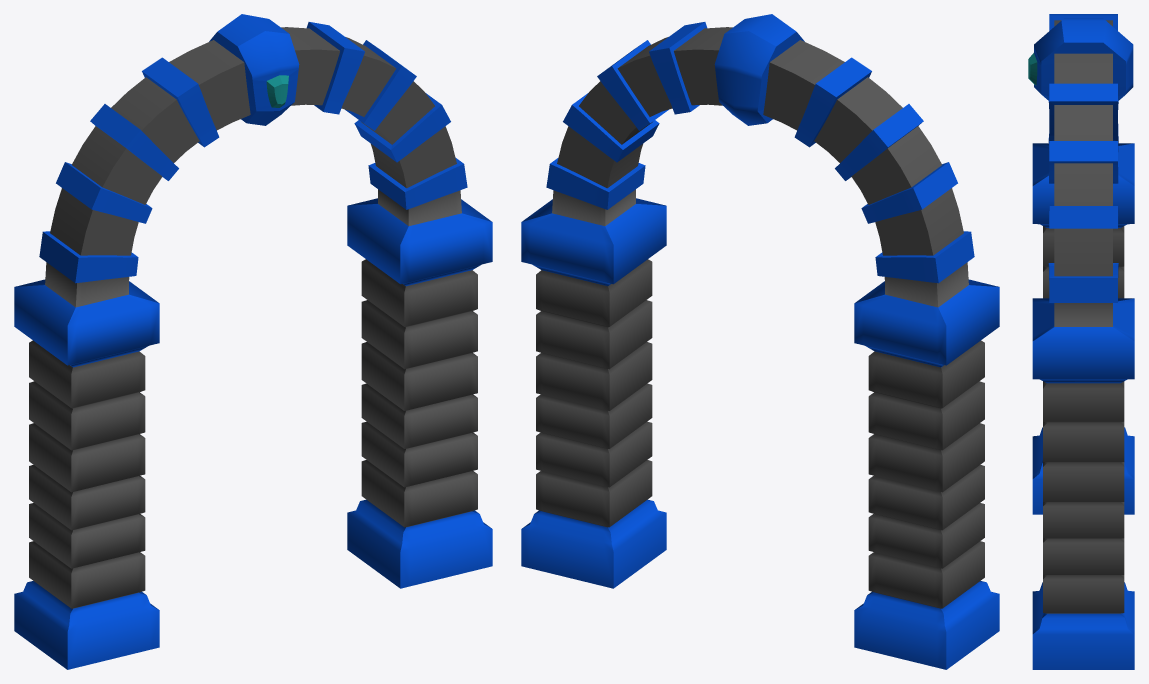
Rendered from ArcoDePiedraMSv26.fbx.
3 views of the same model, side by side, from view 1: azimuth 30°, elevation 25°; view 2: azimuth 150°, elevation 25°; view 3: azimuth 270°, elevation 25° (orthographic). The views are drawn at different scales.
Visible parts, largest first — view 1: Box001; view 2: Box001; view 3: Box001.
Boxes of the visible parts, x1,y1,x2,y2 form: Box001: (14, 14, 492, 669); Box001: (521, 14, 999, 669); Box001: (1028, 14, 1134, 669).
Size of the model in its own units: 46.07 by 59.63 by 10.43.
